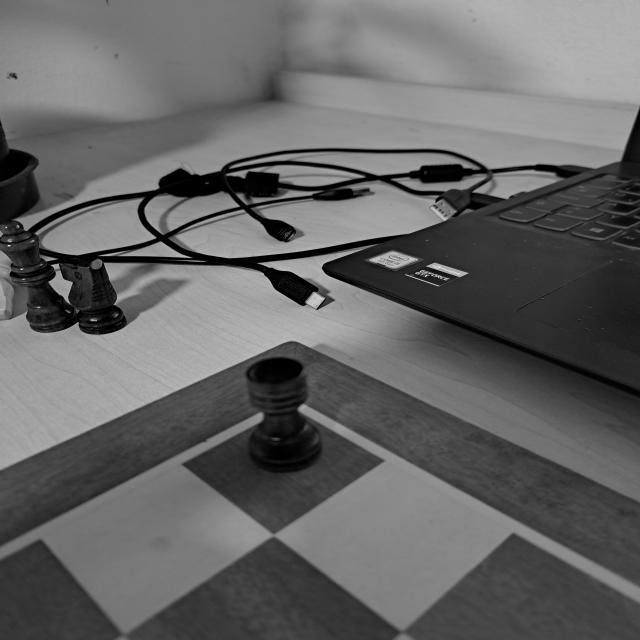chess-table-corners: (235, 382, 345, 436)
